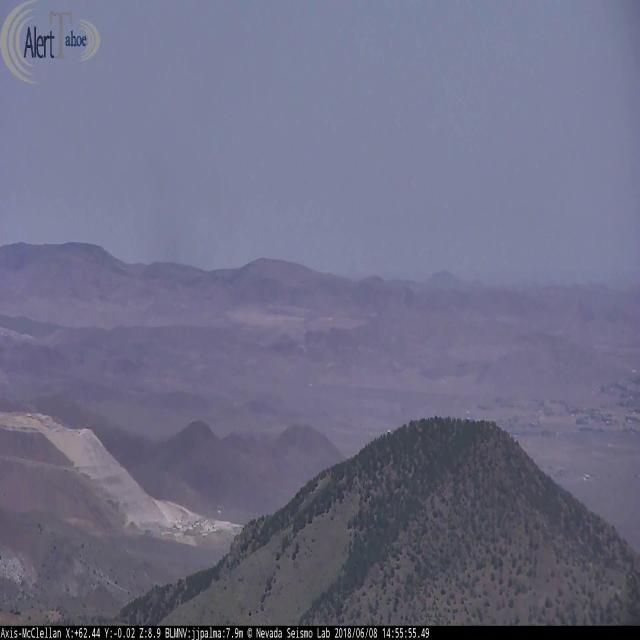smoke: (129, 126, 218, 264)
